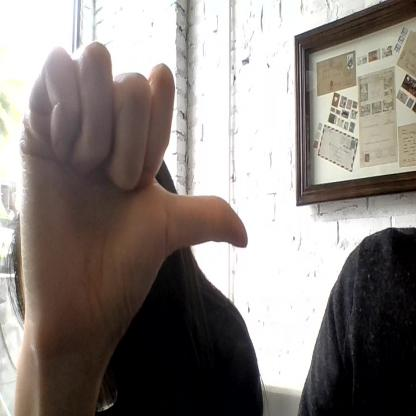left: (18, 41, 248, 328)
